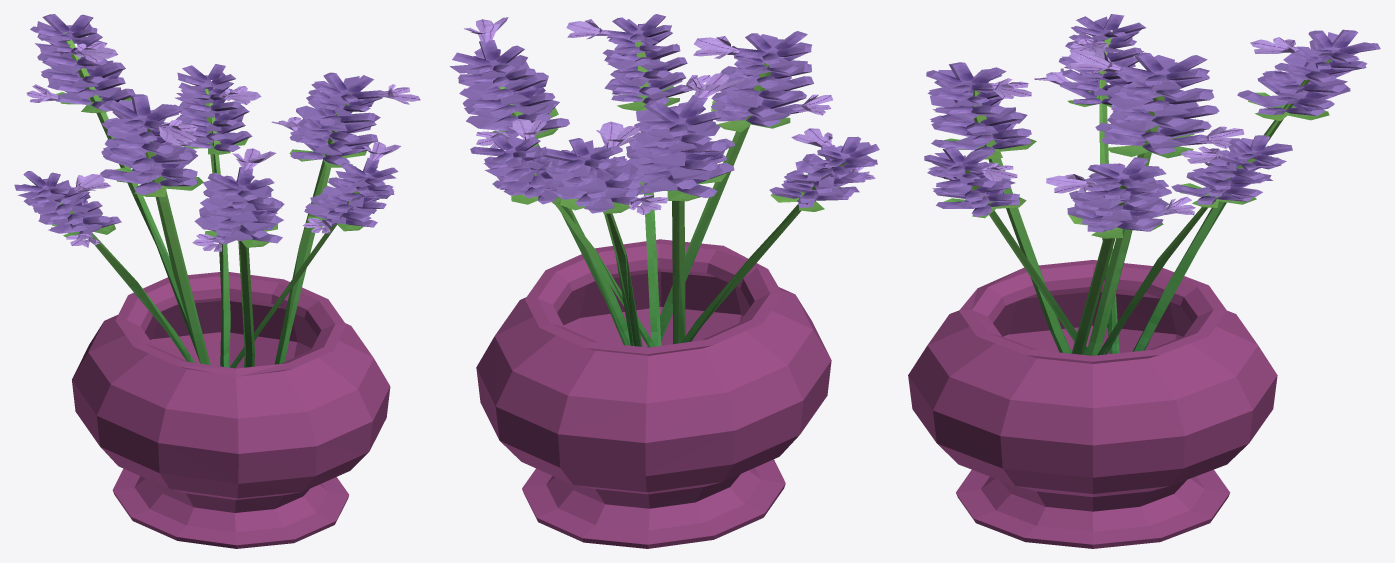
File: sh-scopia-lavender.glb
The picture shows the model from 3 angles, left to right: view 1: azimuth 30°, elevation 25°; view 2: azimuth 150°, elevation 25°; view 3: azimuth 270°, elevation 25°; orthographic projection. The views are drawn at different scales.
Visible parts, largest first — view 1: Jar, Lavender; view 2: Jar, Lavender; view 3: Jar, Lavender.
Boxes of the visible parts, box(x1,y1,x2,y2) form: Jar: box(72, 272, 390, 548); Lavender: box(14, 14, 420, 368); Jar: box(476, 239, 831, 548); Lavender: box(449, 14, 879, 347); Jar: box(908, 260, 1277, 548); Lavender: box(924, 14, 1380, 355).
Bounding box in the file's own units: 0.9993 × 1 × 0.9992.
6 materials, 5 textured.
